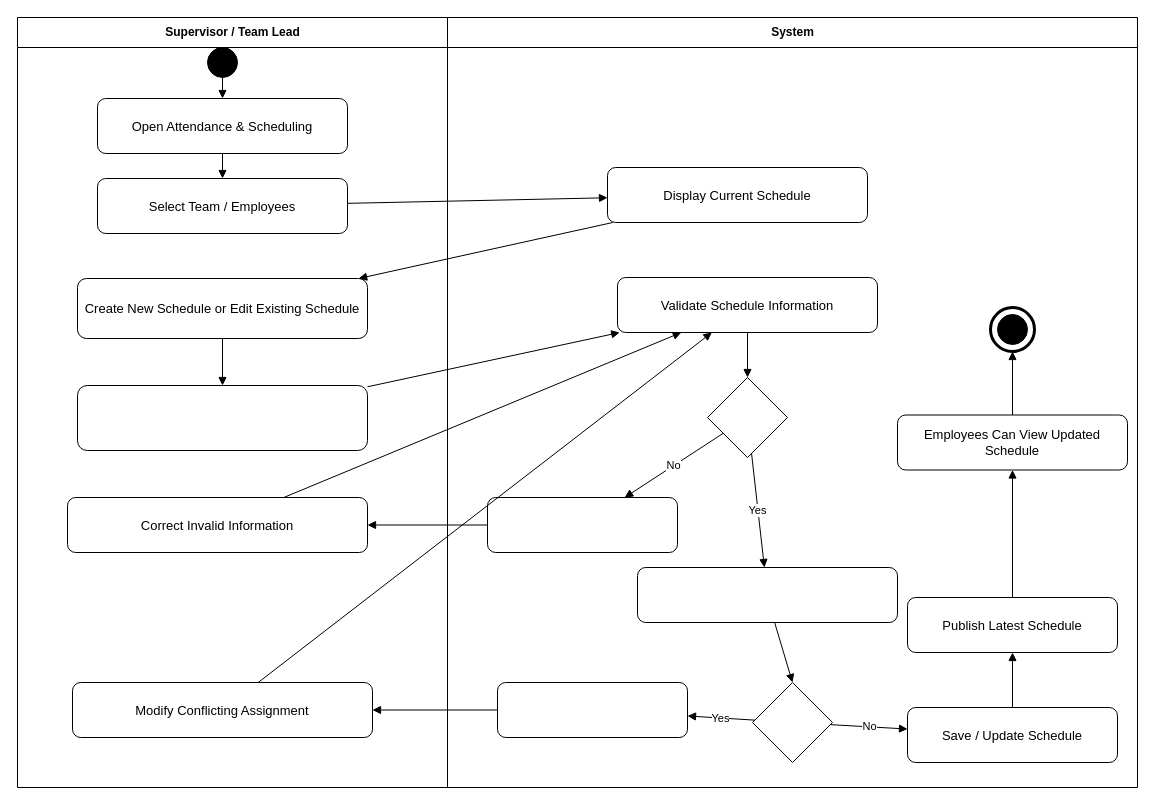
This 1155x805 diagram has some shape labels left out. The shapes that lost their labels are listed below. From the top down, each one's centre as x and y in pixels, then its label:
At [222,417]: "Enter Schedule Details and Assign Employees".
At [747,417]: "Valid?".
At [582,524]: "Show Validation Error".
At [767,594]: "Check Scheduling Conflicts".
At [592,710]: "Show Conflict Details".
At [792,722]: "Conflict?".
